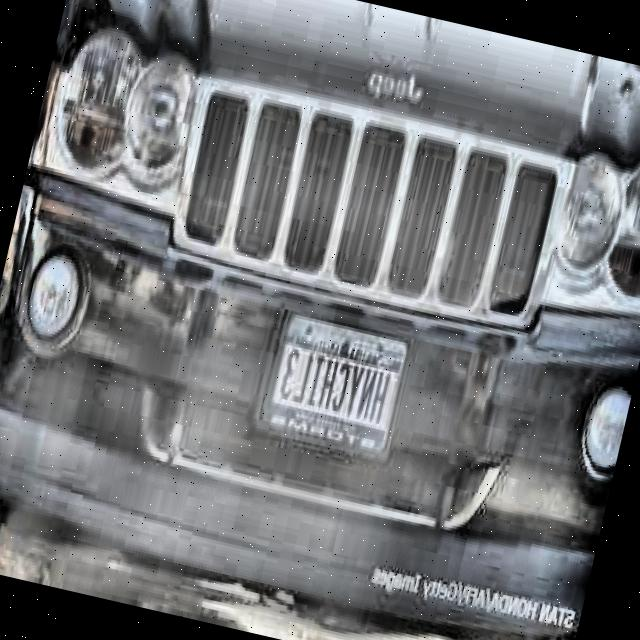license_plate: (261, 310, 408, 457)
